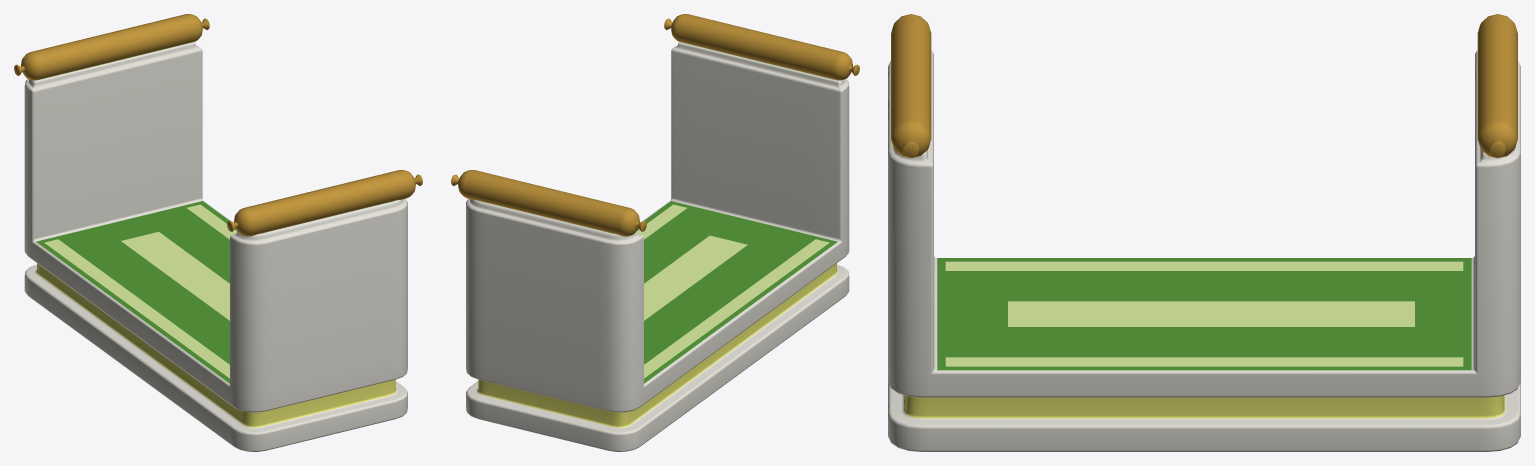
The model's file is SM_Platform_03.fbx.
The picture shows the model from 3 angles, left to right: view 1: azimuth 30°, elevation 25°; view 2: azimuth 150°, elevation 25°; view 3: azimuth 270°, elevation 25°; orthographic projection. The views are drawn at different scales.
Parts seen in each view (by area): view 1: SM_Platform_02; view 2: SM_Platform_02; view 3: SM_Platform_02.
Boxes of the visible parts, bbox=[...] form: SM_Platform_02: bbox=[14, 14, 422, 451]; SM_Platform_02: bbox=[451, 14, 859, 451]; SM_Platform_02: bbox=[888, 14, 1520, 451].
Size of the model in its own units: 671 by 806 by 1404.
